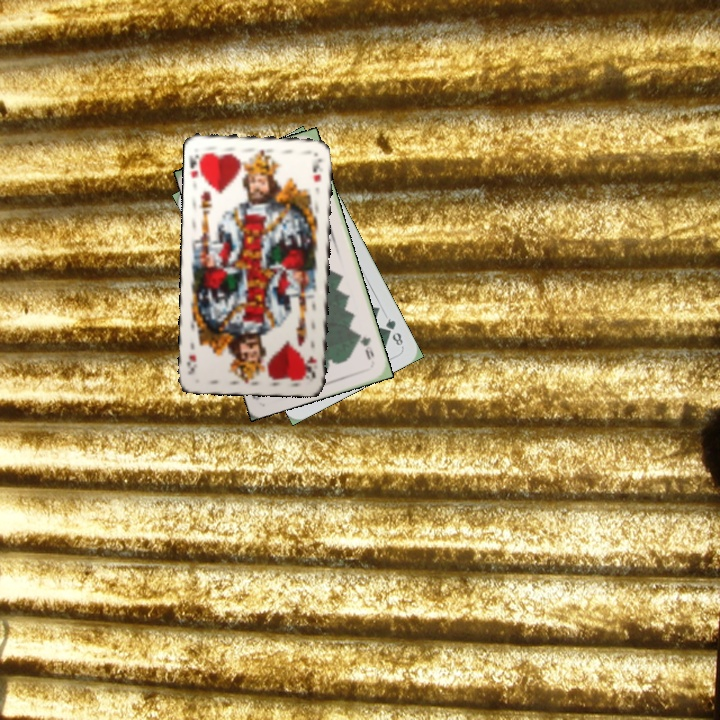G8: (381, 314, 405, 350)
G9: (354, 328, 376, 363)
HK: (186, 149, 207, 185), (302, 352, 319, 380)
